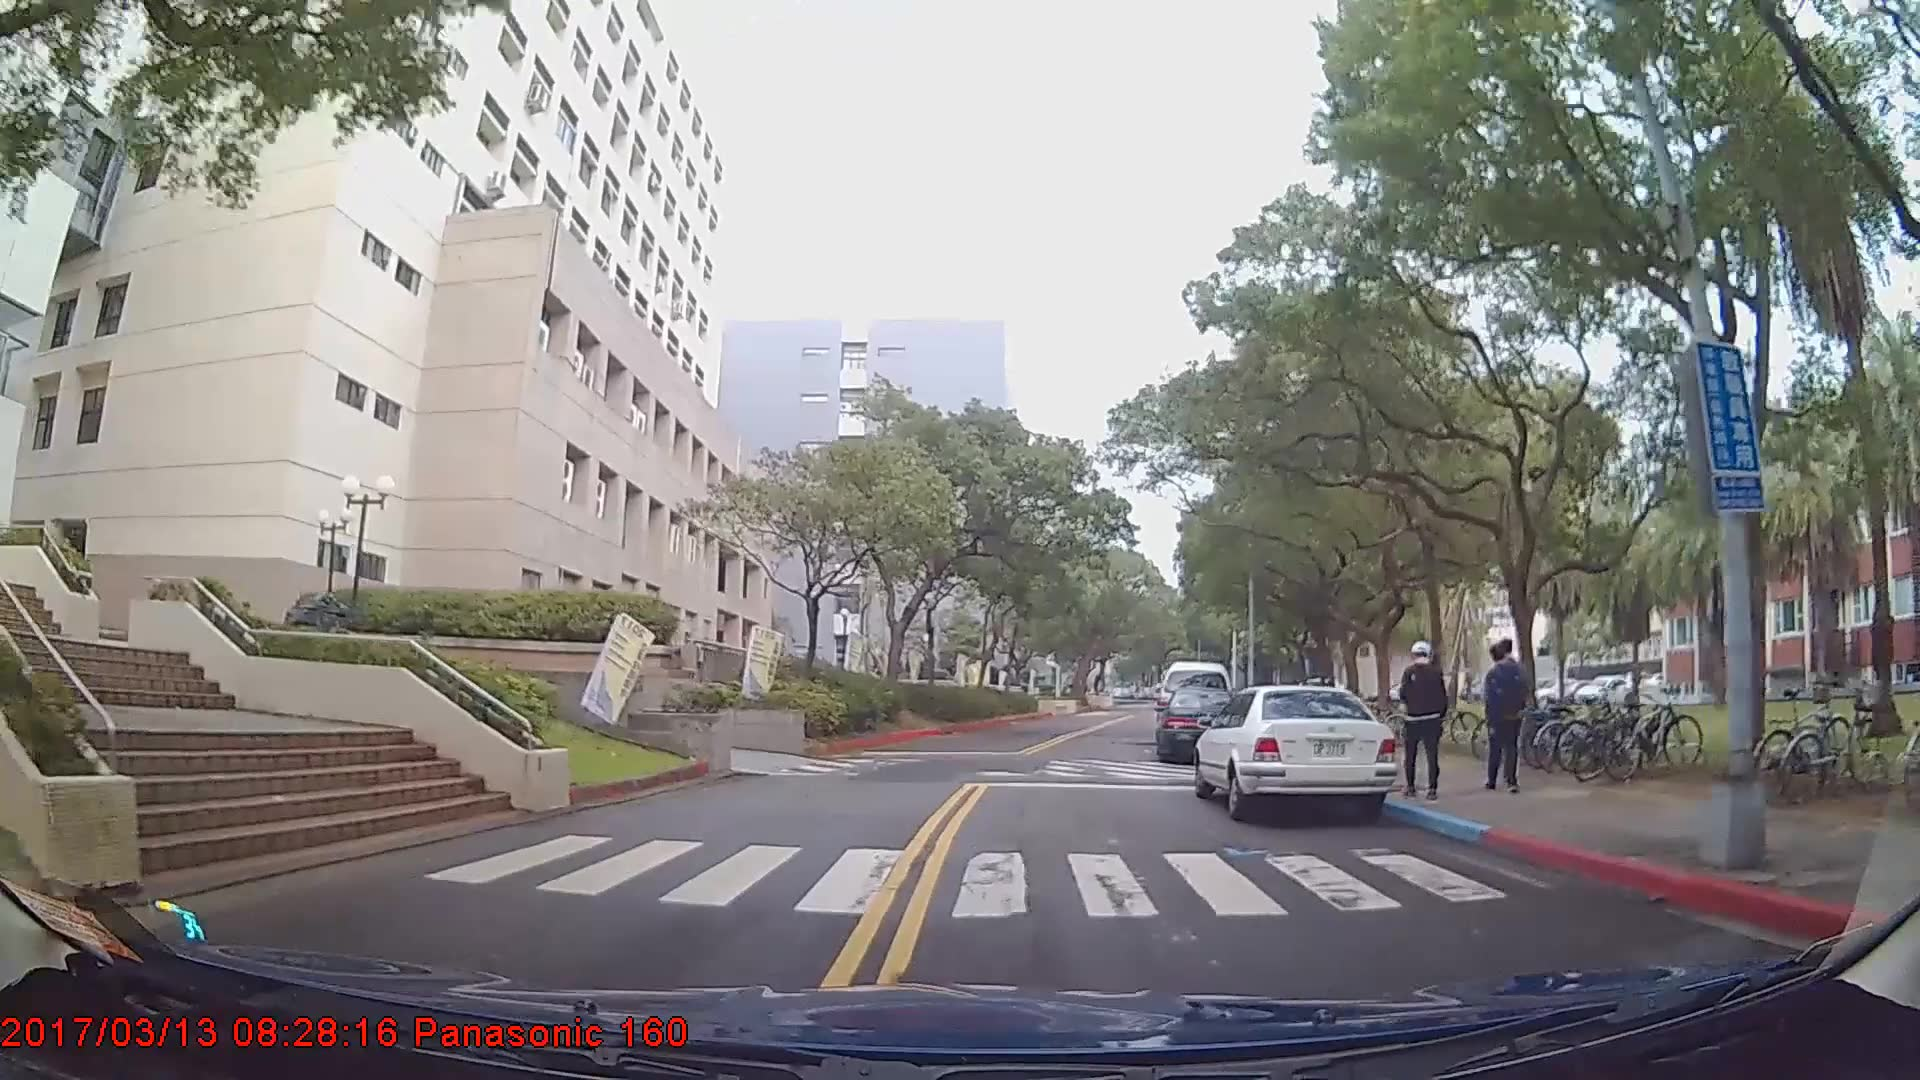pedestrian: (1479, 639, 1533, 797), (1399, 643, 1452, 801)
vehicle: (1193, 683, 1397, 818), (1156, 686, 1249, 763)
